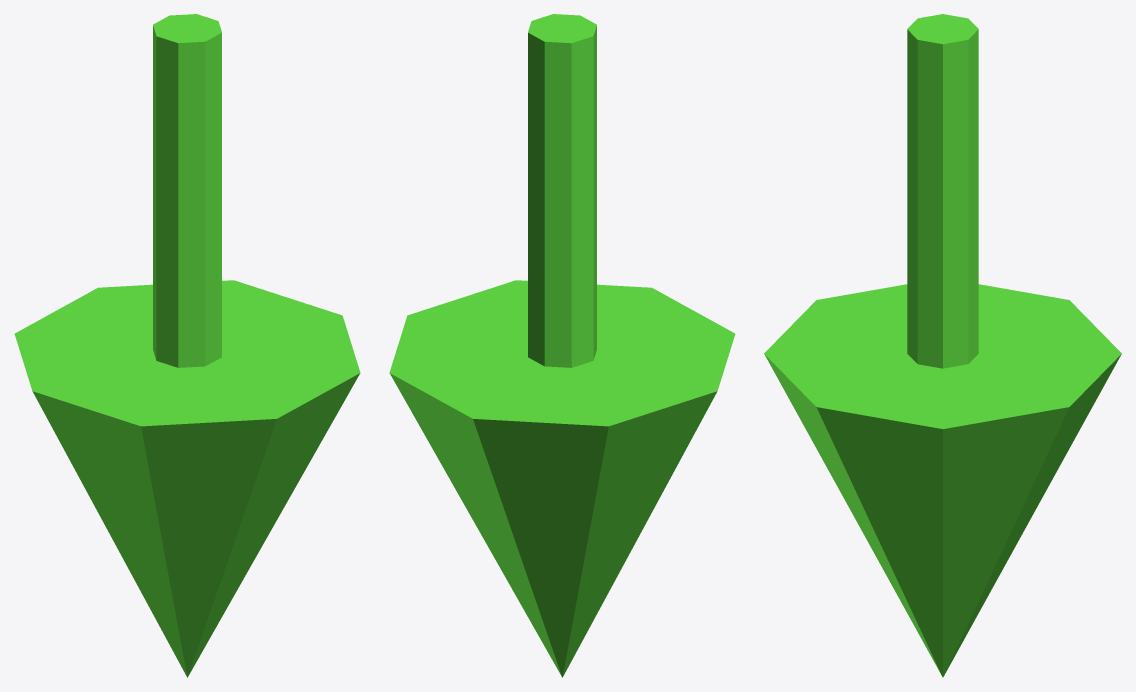
Rendered from Arrow.fbx.
3 renders of one model, left to right at view 1: azimuth 30°, elevation 25°; view 2: azimuth 150°, elevation 25°; view 3: azimuth 270°, elevation 25°, orthographic.
Visible parts, largest first — view 1: Head, Tail; view 2: Head, Tail; view 3: Head, Tail.
Boxes of the visible parts, <box> form: Head: <box>14,280,360,677</box>; Tail: <box>153,14,221,367</box>; Head: <box>389,280,735,677</box>; Tail: <box>528,14,596,367</box>; Head: <box>764,284,1121,677</box>; Tail: <box>907,14,978,368</box>.
Size of the model in its own units: 1 by 2 by 1.
